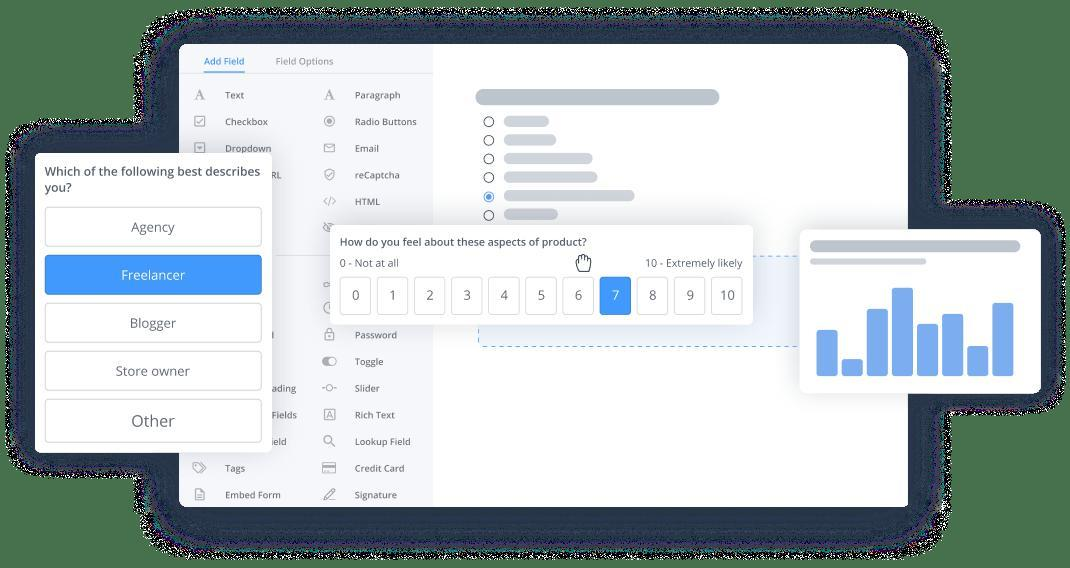button: (45, 206, 262, 249), (46, 400, 263, 443), (46, 256, 262, 298), (45, 352, 261, 392), (46, 303, 261, 343), (563, 277, 595, 317), (674, 277, 706, 316), (601, 278, 633, 316), (712, 278, 744, 316), (527, 278, 559, 315), (638, 278, 669, 316), (453, 277, 483, 316), (415, 278, 446, 315), (489, 278, 520, 315), (379, 278, 409, 316), (342, 278, 371, 316)
checkbox: (195, 117, 206, 128)
dropdown: (195, 143, 206, 154)
icon: (322, 460, 338, 477), (323, 328, 338, 343), (324, 435, 339, 450), (195, 487, 208, 504), (324, 90, 339, 104), (193, 462, 208, 476), (324, 408, 338, 423), (193, 89, 207, 103), (325, 487, 338, 502), (325, 168, 337, 184), (324, 143, 338, 155), (324, 197, 339, 208), (323, 384, 339, 392)
label: (355, 436, 412, 449), (355, 117, 419, 128), (277, 57, 338, 68), (226, 491, 283, 502), (355, 464, 407, 476), (355, 491, 399, 504), (355, 92, 403, 103), (355, 172, 403, 182), (226, 118, 271, 128), (355, 331, 399, 341), (227, 145, 273, 154), (204, 58, 247, 67), (356, 412, 397, 421), (355, 357, 385, 369), (355, 197, 384, 209), (356, 144, 382, 154), (356, 384, 382, 394), (225, 465, 248, 476), (226, 91, 247, 102)
radio: (483, 116, 496, 130), (324, 116, 337, 129), (484, 171, 496, 185), (484, 191, 496, 204), (484, 211, 496, 223), (484, 136, 496, 147), (484, 154, 496, 165)
switch: (323, 357, 340, 368)
